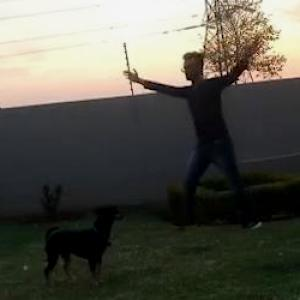takeoff: (124, 41, 264, 221)
